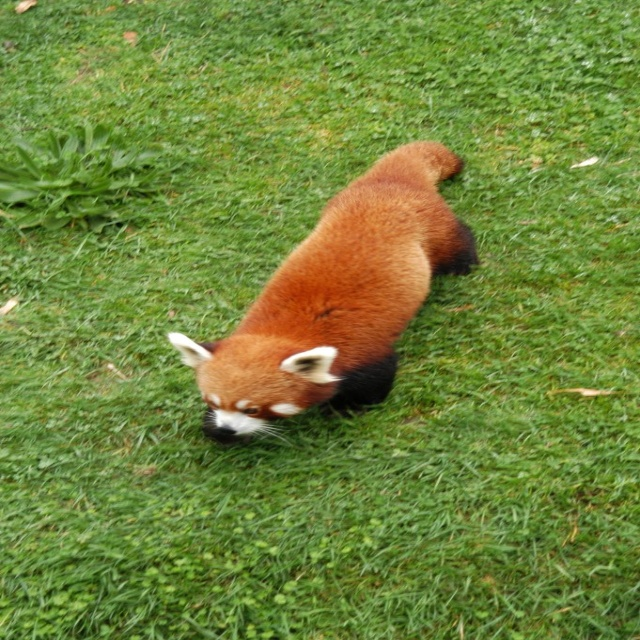Red panda: (172, 142, 483, 438)
